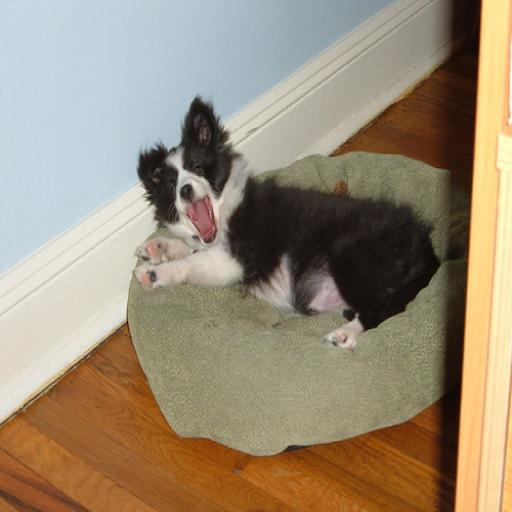dog_face: (131, 102, 233, 254)
